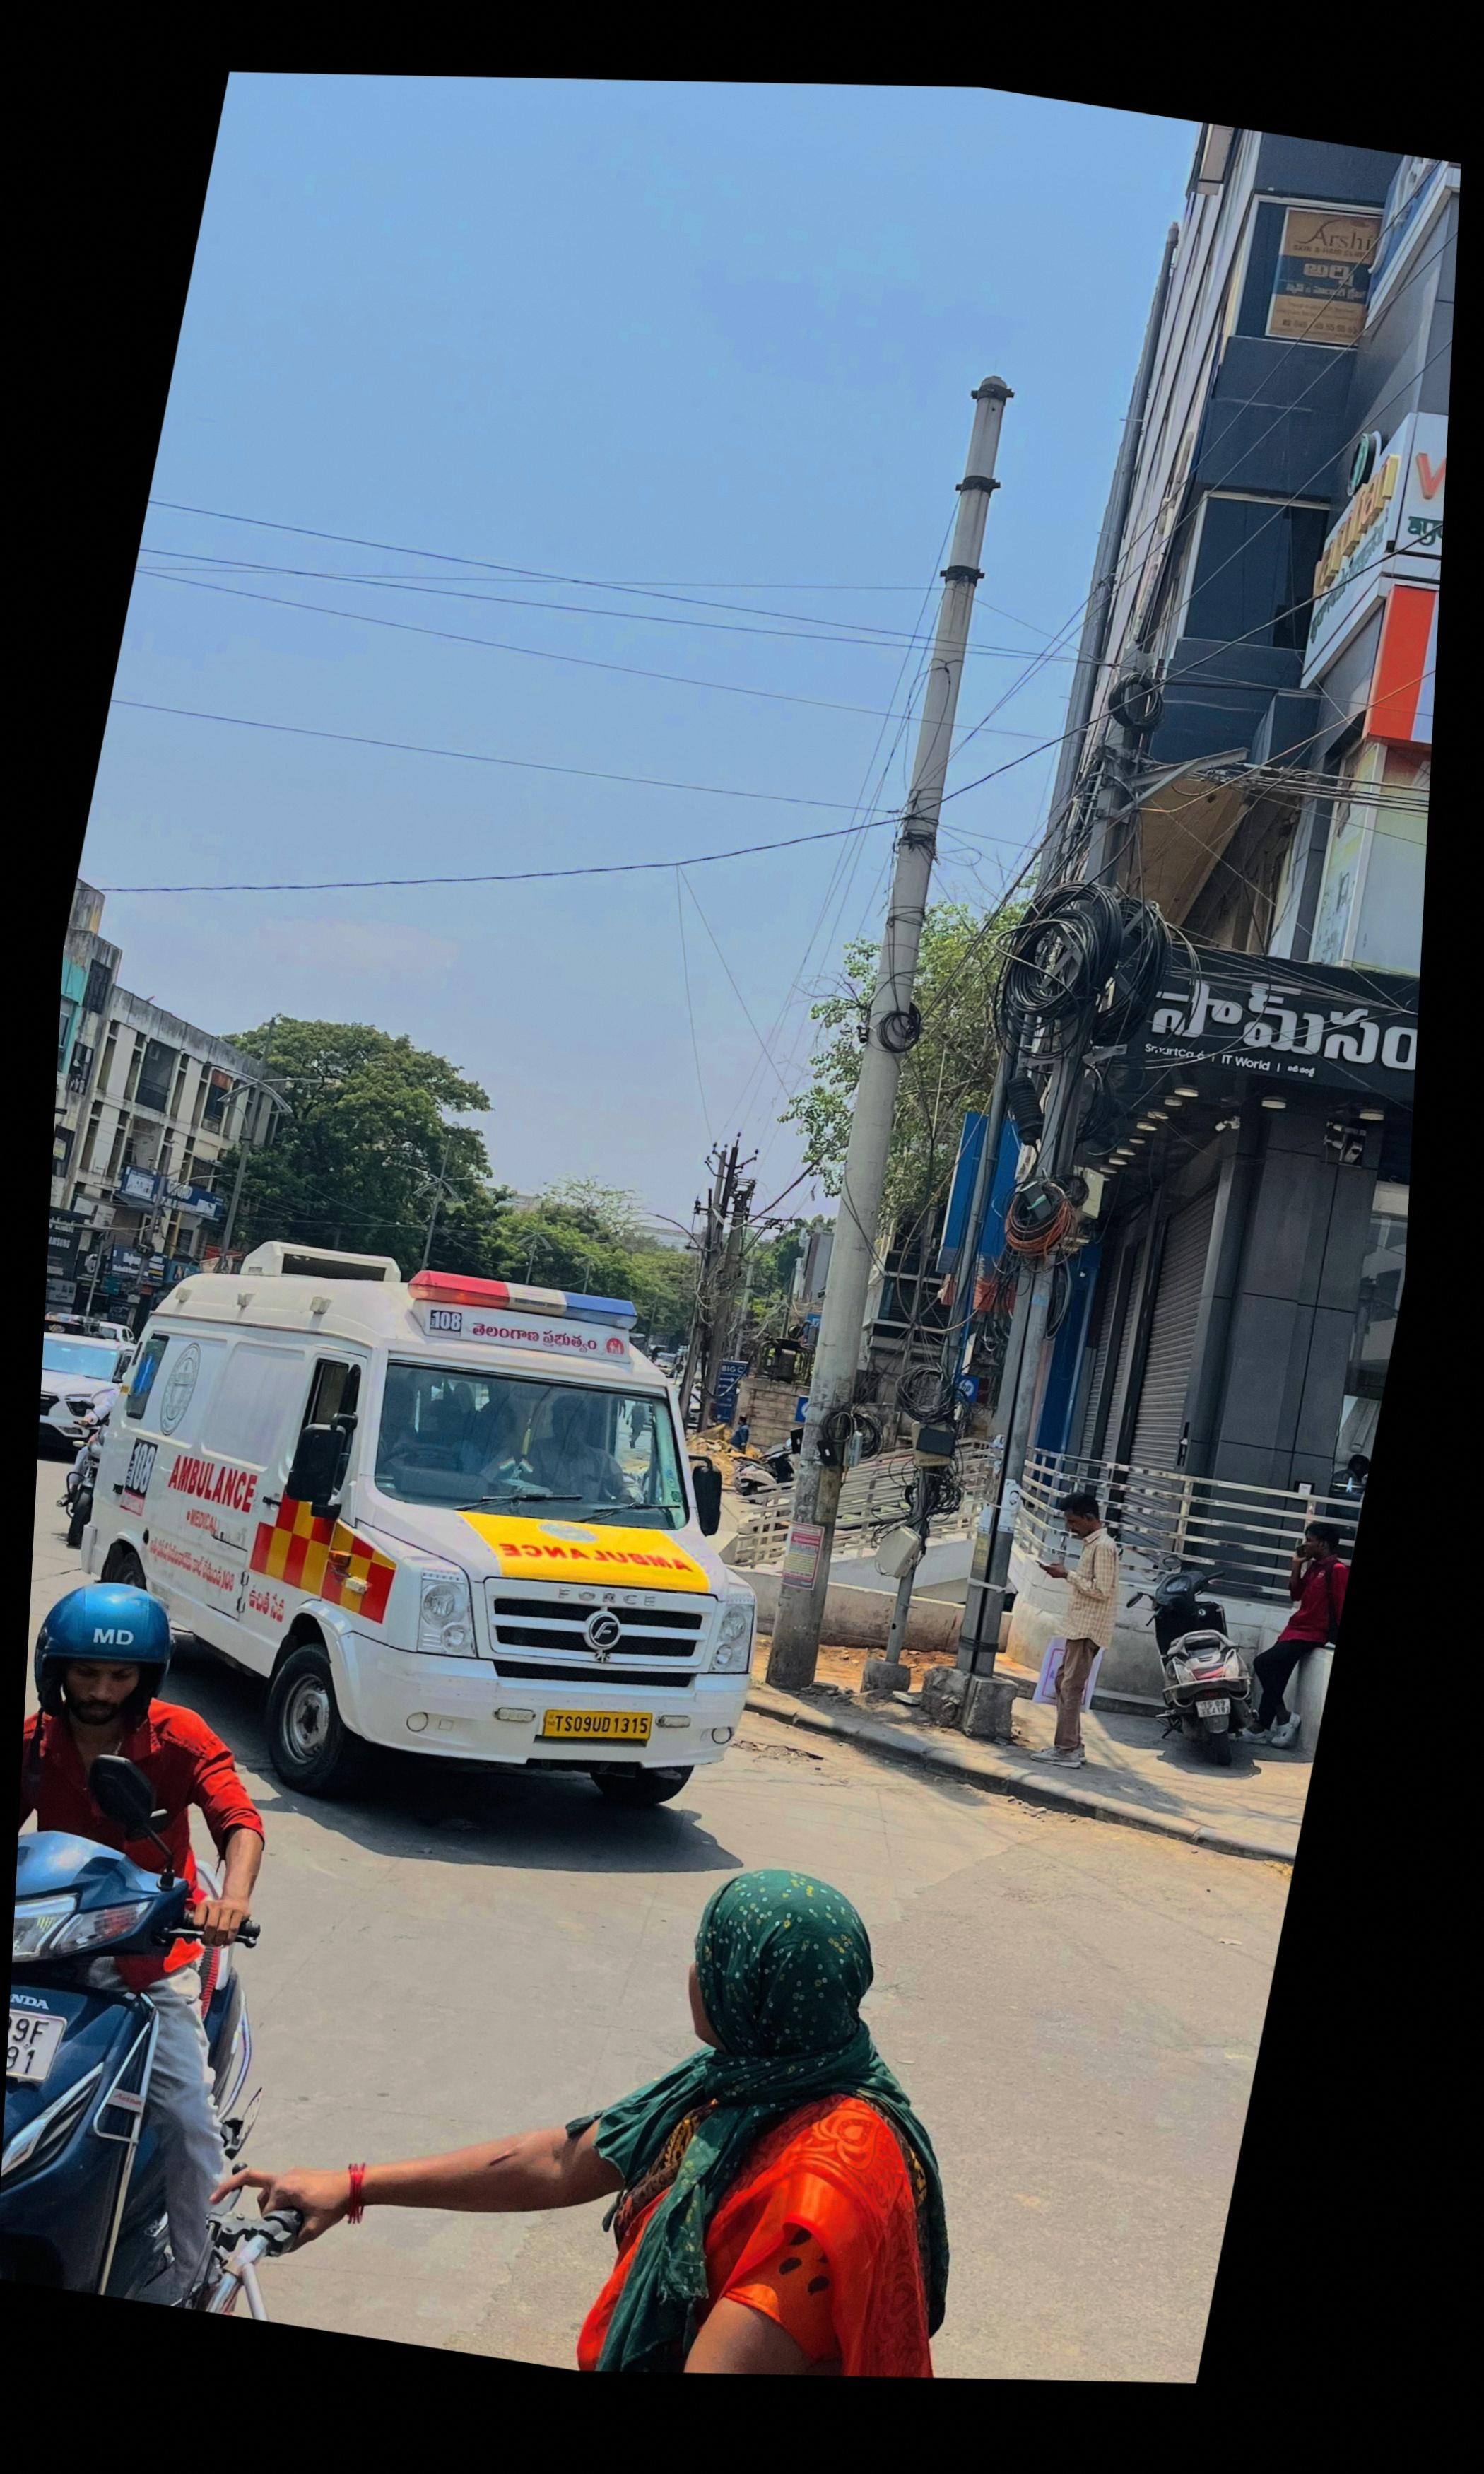ambulance: (51, 1248, 753, 1808)
